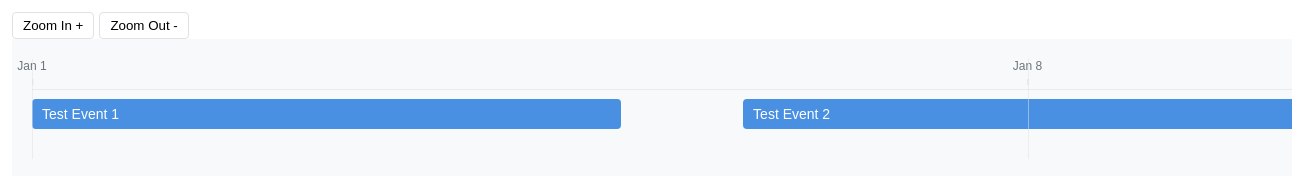
Test: Timeline › handles zoom out functionality
Click the button "Zoom Out -": point(144, 26) top-left (99, 12), bottom-right (189, 39)
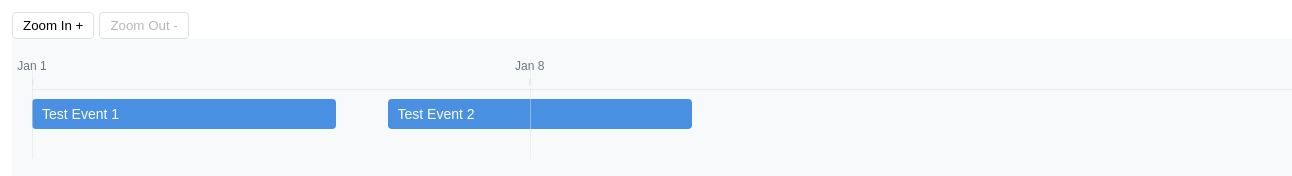
expect the button "Zoom Out -" is disabled: met, box top-left (99, 12), bottom-right (189, 39)
